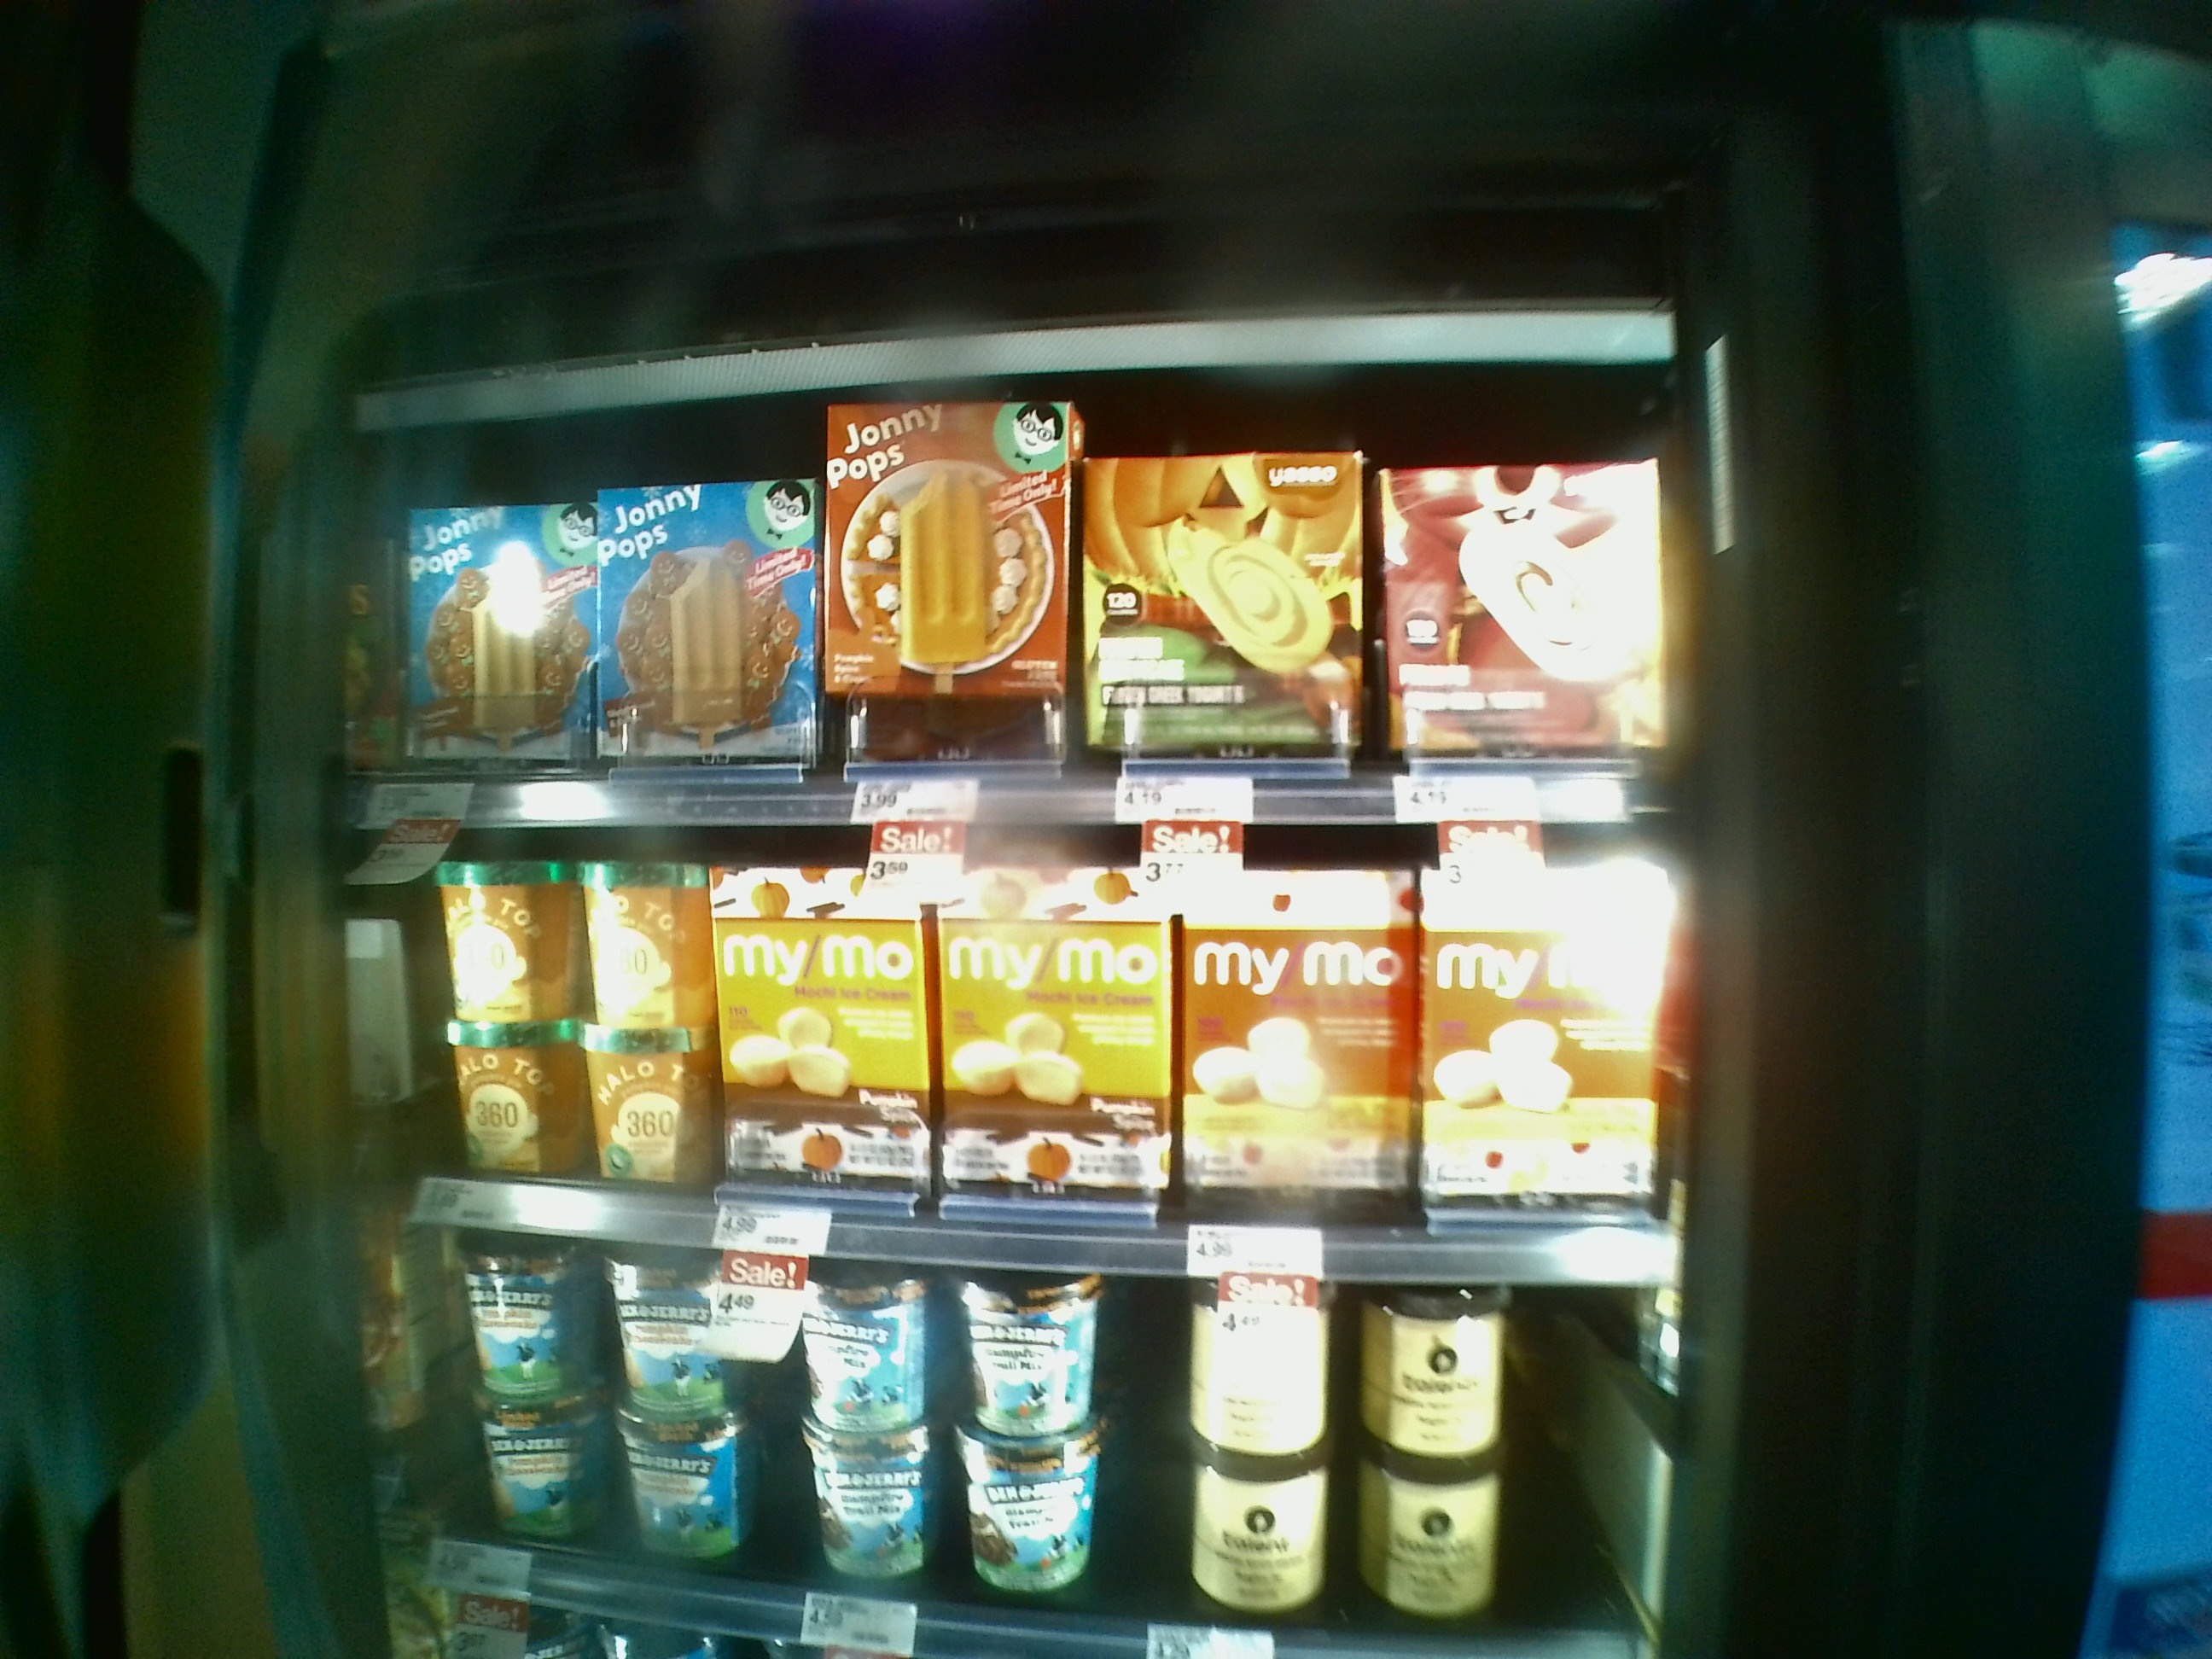shelf: (345, 809, 1700, 1288), (354, 396, 1700, 812)
